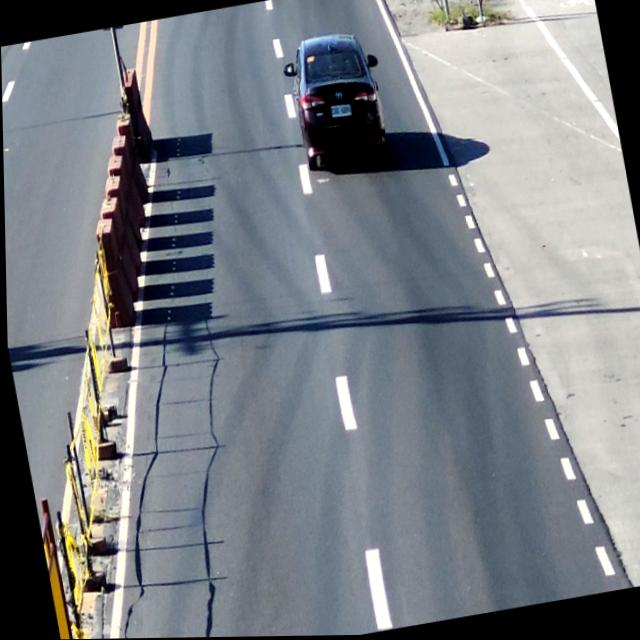Car: (283, 26, 395, 180)
License-Plate: (326, 100, 354, 121)
